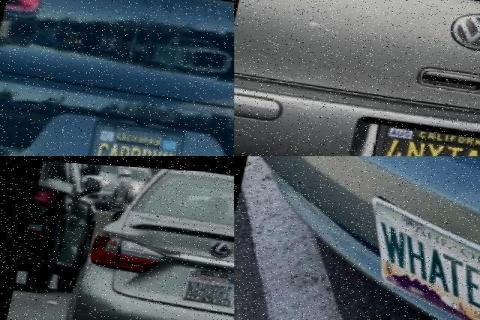LicensePlate: (371, 194, 478, 319), (372, 115, 478, 155), (88, 120, 188, 156), (184, 260, 234, 301)
